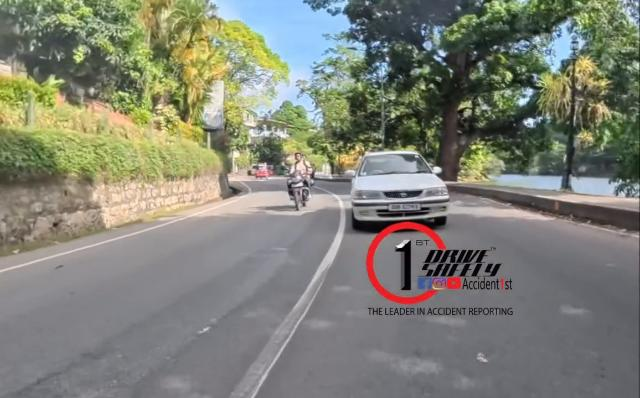illegal overtaking: (280, 153, 327, 215)
